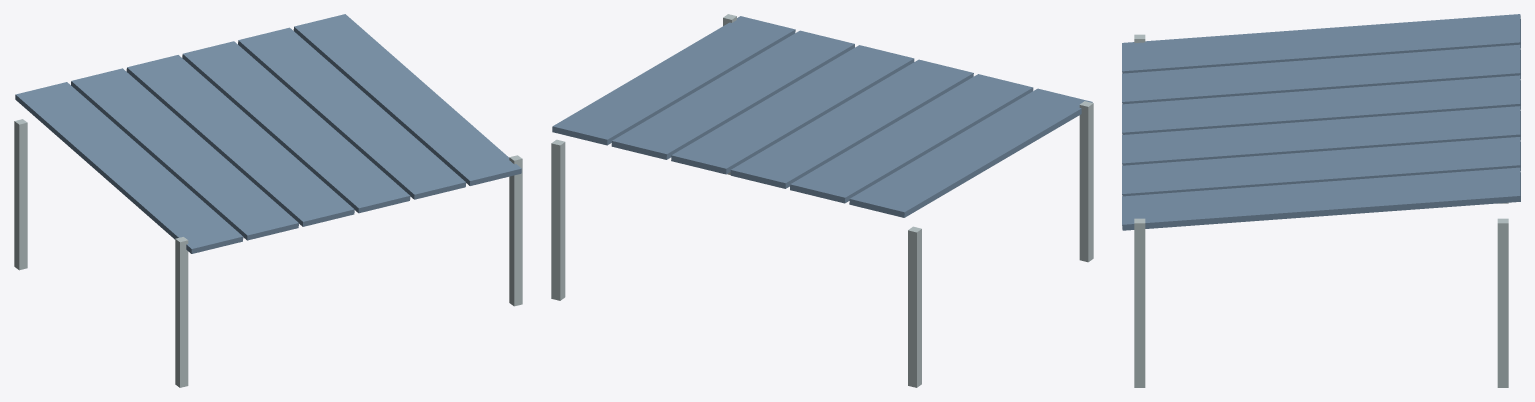
The model's file is solar_canopy.glb.
3 views of the same model, side by side, from view 1: azimuth 30°, elevation 25°; view 2: azimuth 150°, elevation 25°; view 3: azimuth 270°, elevation 25° (orthographic). The views are drawn at different scales.
Visible parts, largest first — view 1: solar_canopy__solar_panel, solar_canopy__solar_panel.003, solar_canopy__solar_panel.002, solar_canopy__solar_panel.001, solar_canopy__solar_panel.004, solar_canopy__solar_panel.005, solar_canopy__support.001, solar_canopy__support, solar_canopy__support.002; view 2: solar_canopy__solar_panel, solar_canopy__solar_panel.001, solar_canopy__solar_panel.002, solar_canopy__solar_panel.003, solar_canopy__solar_panel.004, solar_canopy__solar_panel.005, solar_canopy__support.003, solar_canopy__support, solar_canopy__support.001; view 3: solar_canopy__solar_panel.005, solar_canopy__solar_panel.002, solar_canopy__solar_panel.003, solar_canopy__solar_panel.004, solar_canopy__solar_panel.001, solar_canopy__solar_panel, solar_canopy__support.002, solar_canopy__support.003.
Part boxes in pixels (x1,y1,x2,y2): solar_canopy__solar_panel: (15,82,243,253); solar_canopy__solar_panel.003: (182,41,410,213); solar_canopy__solar_panel.002: (126,55,354,226); solar_canopy__solar_panel.001: (71,68,298,240); solar_canopy__solar_panel.004: (238,27,465,199); solar_canopy__solar_panel.005: (293,14,521,185); solar_canopy__support.001: (14,119,27,270); solar_canopy__support: (175,237,188,387); solar_canopy__support.002: (509,155,522,306); solar_canopy__solar_panel: (849,88,1092,217); solar_canopy__solar_panel.001: (790,74,1033,203); solar_canopy__solar_panel.002: (730,59,973,188); solar_canopy__solar_panel.003: (671,45,914,174); solar_canopy__solar_panel.004: (611,30,854,159); solar_canopy__solar_panel.005: (552,16,795,145); solar_canopy__support.003: (551,139,565,300); solar_canopy__support: (1079,101,1093,262); solar_canopy__support.001: (908,226,921,387); solar_canopy__solar_panel.005: (1122,167,1520,230); solar_canopy__solar_panel.002: (1122,75,1520,134); solar_canopy__solar_panel.003: (1122,106,1520,165); solar_canopy__solar_panel.004: (1122,137,1520,196); solar_canopy__solar_panel.001: (1122,44,1520,104); solar_canopy__solar_panel: (1122,14,1520,73); solar_canopy__support.002: (1134,218,1145,387); solar_canopy__support.003: (1497,218,1508,387).
Size of the model in its own units: 12.3 by 5.73 by 10.98.
